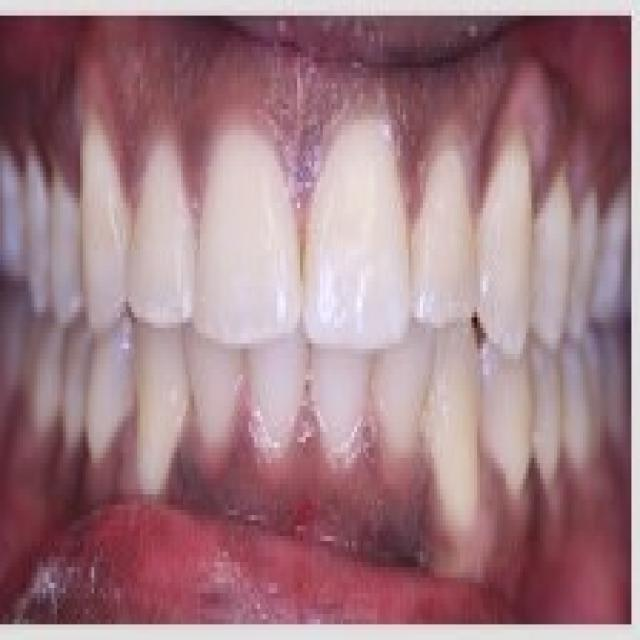tooth: (303, 88, 408, 354), (400, 135, 494, 385), (106, 333, 194, 479), (223, 156, 294, 333), (74, 120, 137, 312), (128, 141, 192, 312), (480, 161, 531, 354), (437, 359, 483, 541), (252, 348, 312, 474), (194, 322, 246, 448), (386, 354, 443, 458), (537, 177, 574, 333), (23, 151, 57, 302), (312, 338, 348, 468), (500, 359, 537, 479), (51, 177, 83, 307), (63, 328, 91, 442), (540, 359, 566, 463)
